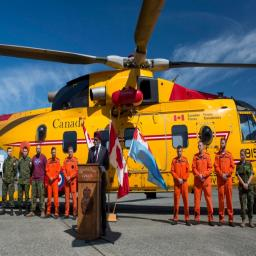helicopter: (1, 17, 256, 216)
